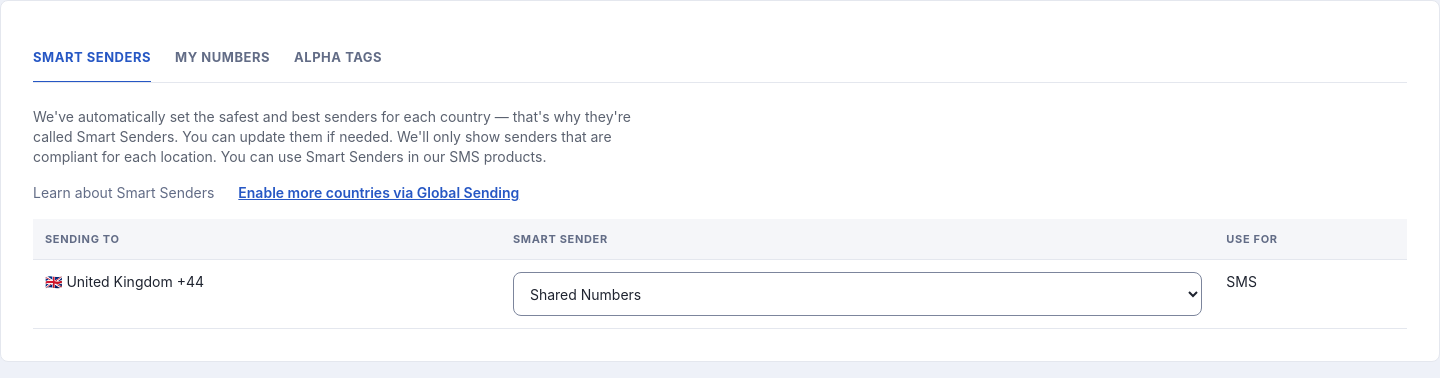
AlphaTagsTab › shows an empty area with no copy when there are no alpha tags
Click the tab "Alpha Tags".
click(338, 58)  # box [294,33,382,83]
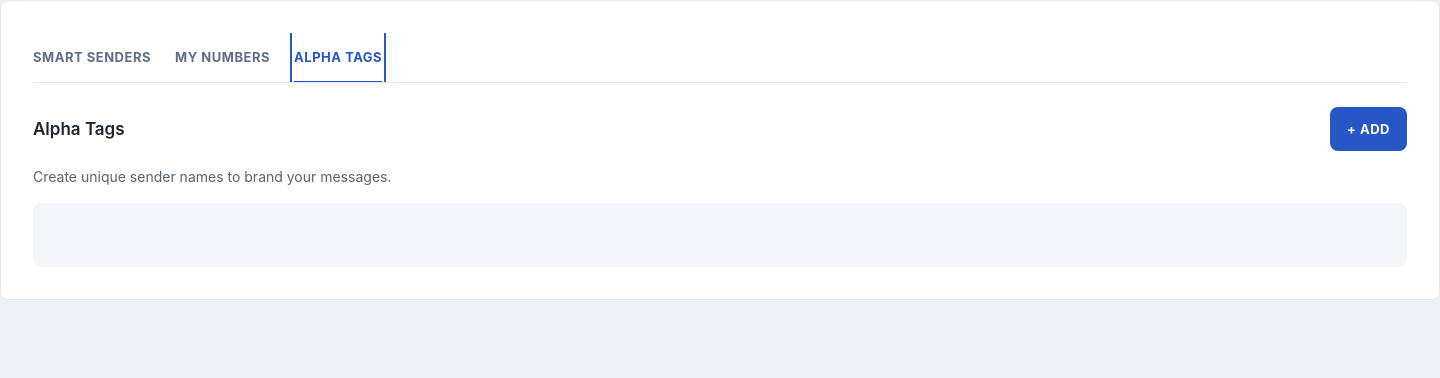
Result: the heading "Alpha Tags" is shown at [33,117,125,141]
Result: the text "Create unique sender names to brand your messages." is shown at [33,168,392,185]
Result: the row "Sending to Smart Sender Use for" is gone
